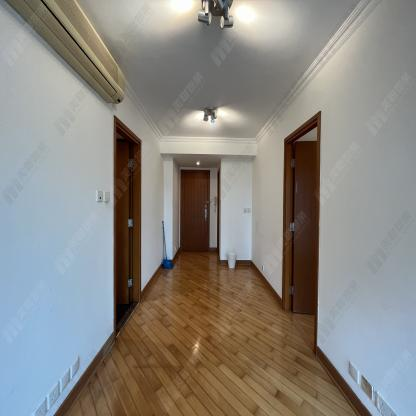AC: (2, 0, 127, 104)
